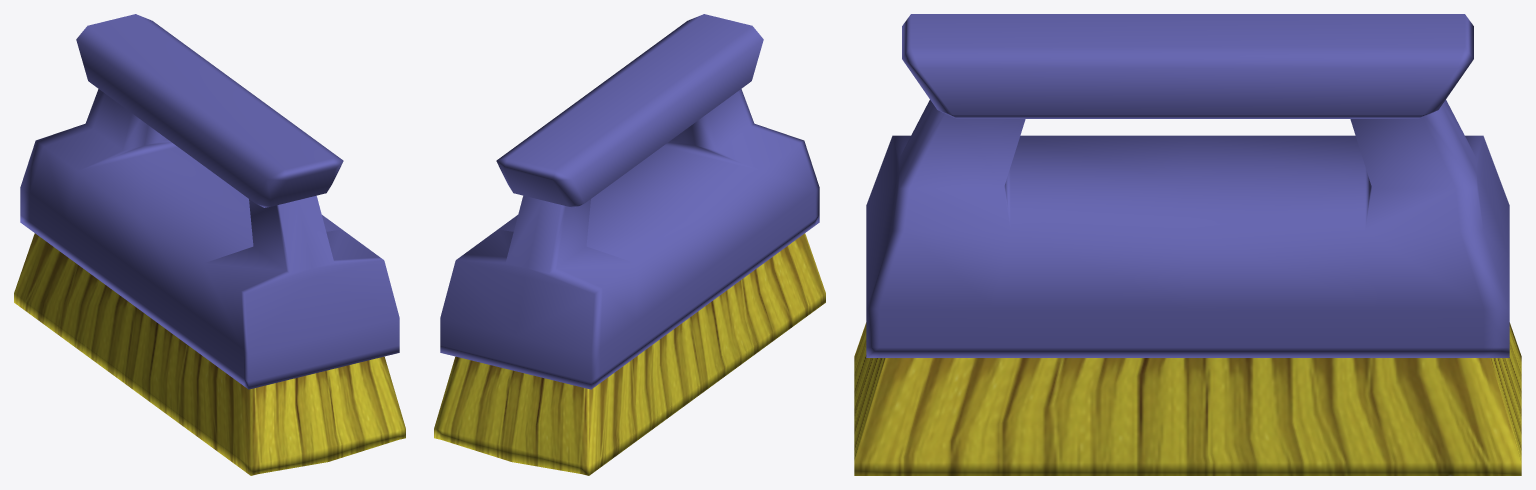
File: mesh015_hard_brush.fbx
3 renders of one model, left to right at view 1: azimuth 30°, elevation 25°; view 2: azimuth 150°, elevation 25°; view 3: azimuth 270°, elevation 25°, orthographic. The views are drawn at different scales.
Parts seen in each view (by area): view 1: pPlane7; view 2: pPlane7; view 3: pPlane7.
Boxes of the visible parts, x1,y1,x2,y2 form: pPlane7: (14,14,405,475); pPlane7: (434,14,825,475); pPlane7: (854,14,1521,475).
Size of the model in its own units: 0.4166 by 0.7279 by 1.1.
